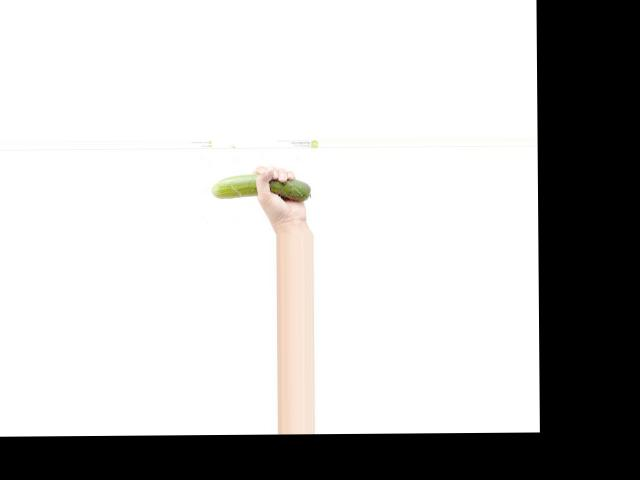cucumber: (211, 172, 309, 201)
